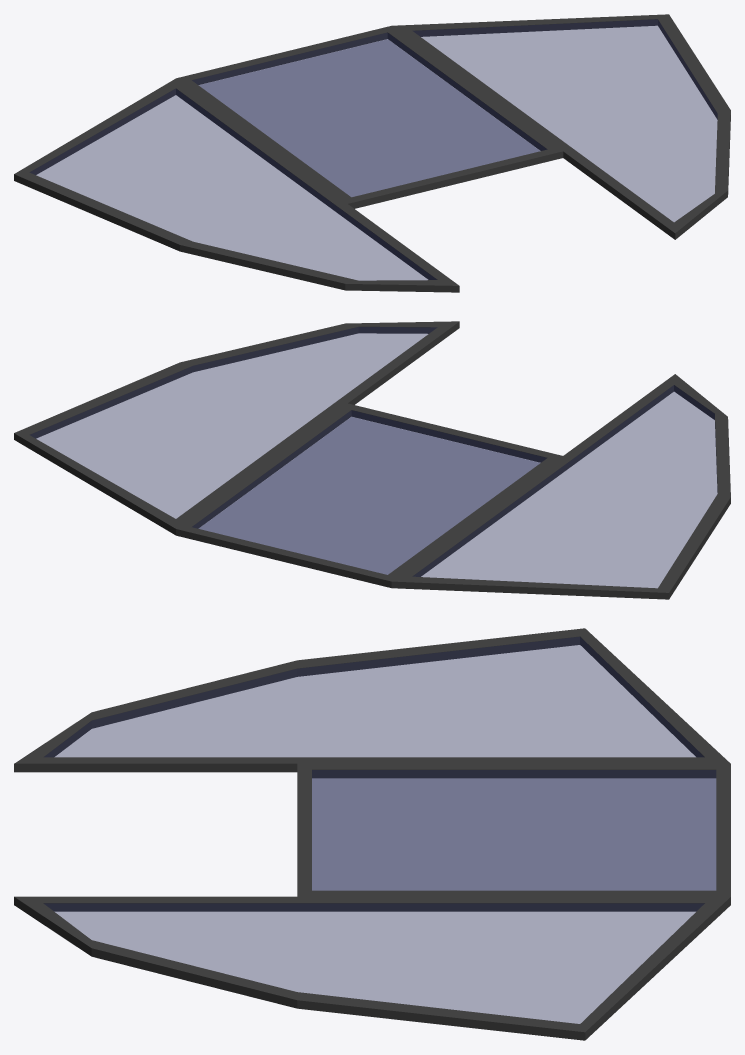
File: mdl_cruciblePlatform.fbx
3 renders of one model, top to bottom at view 1: azimuth 30°, elevation 25°; view 2: azimuth 150°, elevation 25°; view 3: azimuth 270°, elevation 25°, orthographic. The views are drawn at different scales.
Visible parts, largest first — view 1: mesh_cruciblePlatform; view 2: mesh_cruciblePlatform; view 3: mesh_cruciblePlatform.
Boxes of the visible parts, left/top/right/bottom form: mesh_cruciblePlatform: left=14, top=14, right=730, bottom=292; mesh_cruciblePlatform: left=14, top=321, right=730, bottom=599; mesh_cruciblePlatform: left=14, top=628, right=730, bottom=1040.
Bounding box in the file's own units: 200 × 2 × 150.
